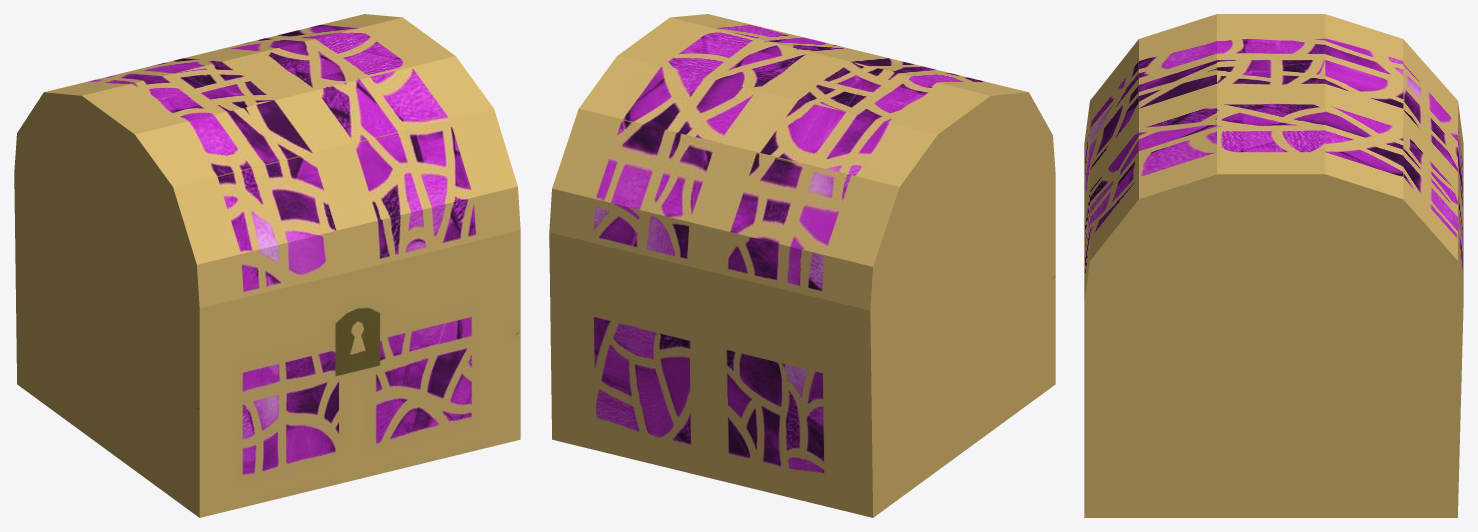
The model's file is chest4Compressed.glb.
3 views of the same model, side by side, from view 1: azimuth 30°, elevation 25°; view 2: azimuth 150°, elevation 25°; view 3: azimuth 270°, elevation 25° (orthographic). The views are drawn at different scales.
Visible parts, largest first — view 1: chest04; view 2: chest04; view 3: chest04.
Boxes of the visible parts, x1,y1,x2,y2 form: chest04: (14, 14, 520, 517); chest04: (549, 14, 1055, 517); chest04: (1084, 14, 1463, 517).
Size of the model in its own units: 1 by 1 by 1.
1 material, 1 textured.
